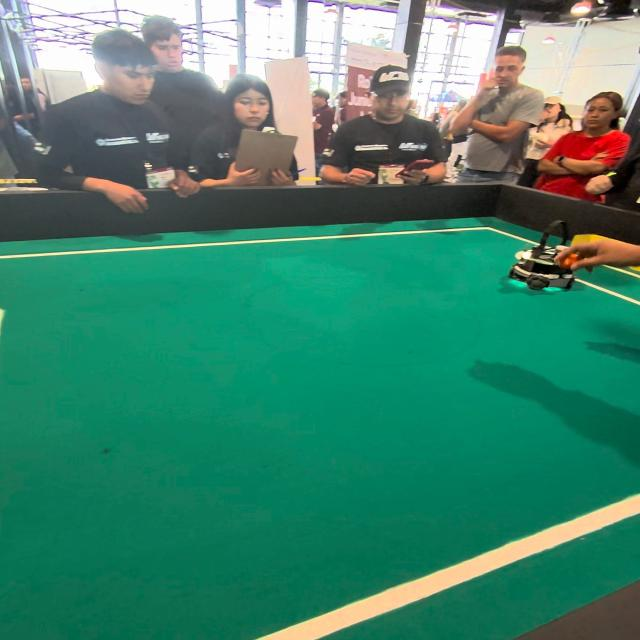Robot: (508, 220, 586, 302)
pelota: (556, 249, 594, 273)
